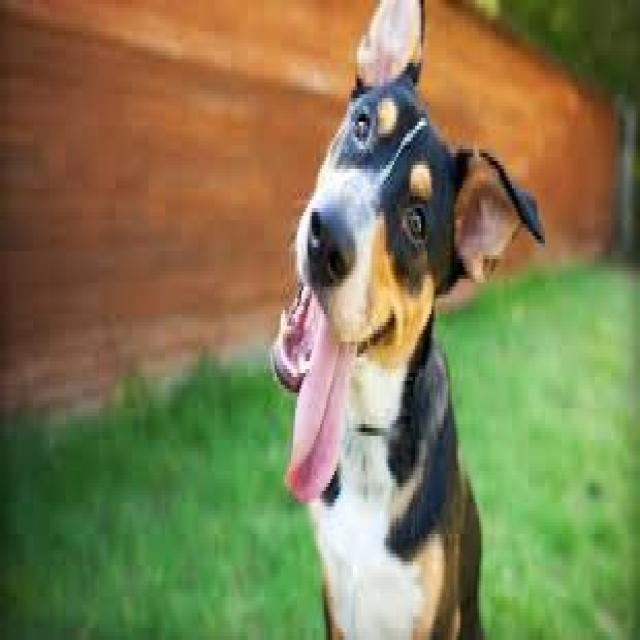Dog: (271, 0, 548, 640)
